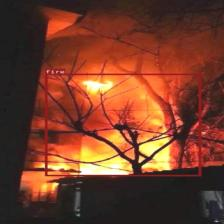fire: (44, 74, 200, 176)
